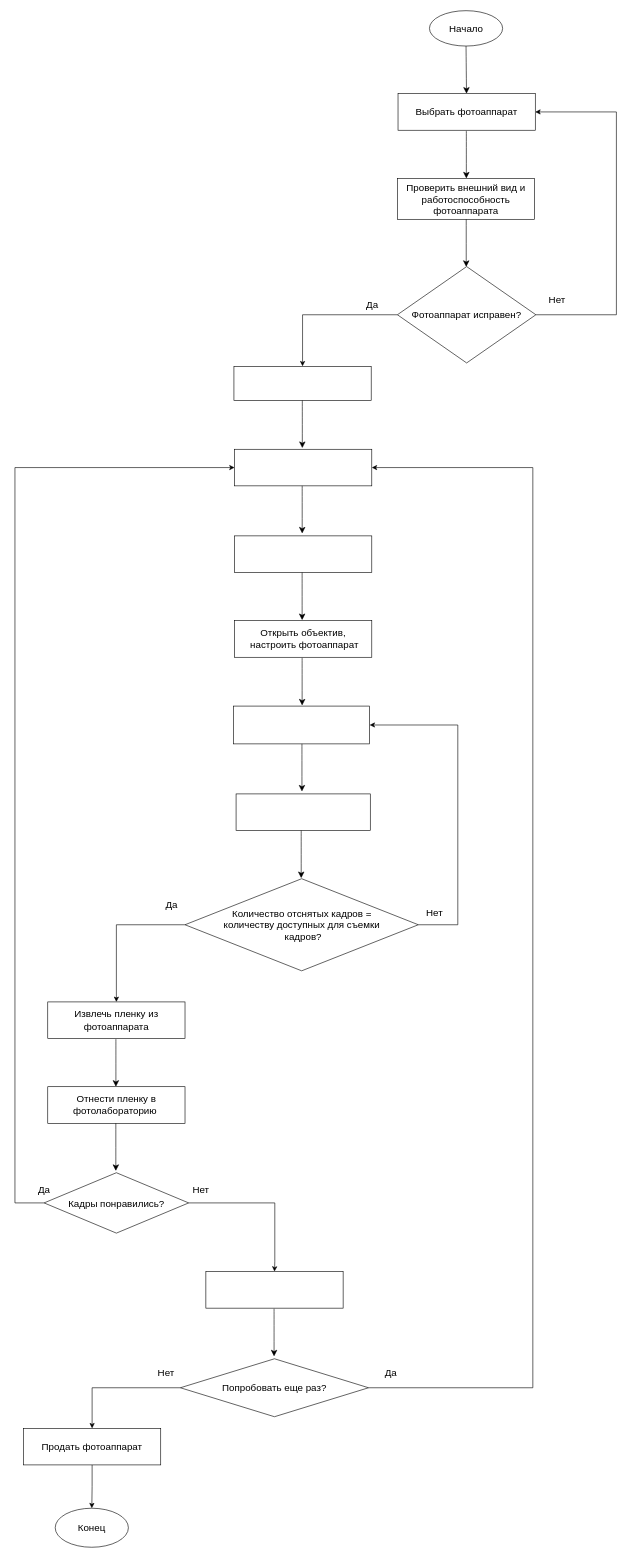
Some shapes in this 632 by 1558 pixel diagram are drawn without their labels. Each missing label, with the box of its shape:
Заправить пленку в фотоаппарат: (234, 535, 372, 572)
Купить пленку: (234, 449, 372, 486)
Купить фотоаппарат: (233, 366, 371, 400)
Навести камеру на объект, настроить кадр в видеоискателе: (233, 705, 370, 744)
Нажать на кнопку спуска затвора: (235, 793, 370, 831)
Проанализировать неудачу: (205, 1271, 343, 1308)
